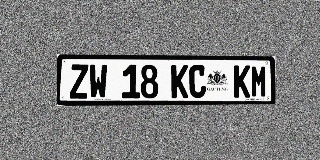1: (122, 65, 140, 98)
8: (141, 65, 158, 98)
C: (189, 65, 206, 98)
K: (171, 65, 188, 98), (234, 65, 250, 98)
M: (251, 65, 267, 98)
W: (89, 64, 107, 99)
Z: (70, 64, 88, 99)
